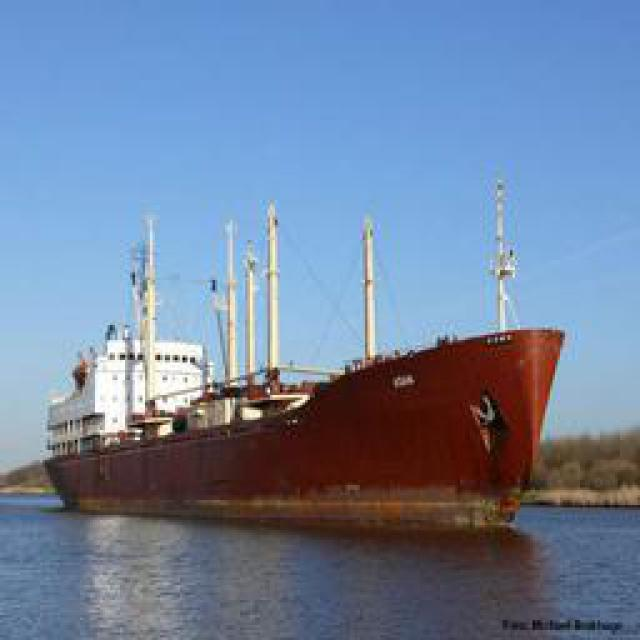Ship: (45, 254, 568, 519)
